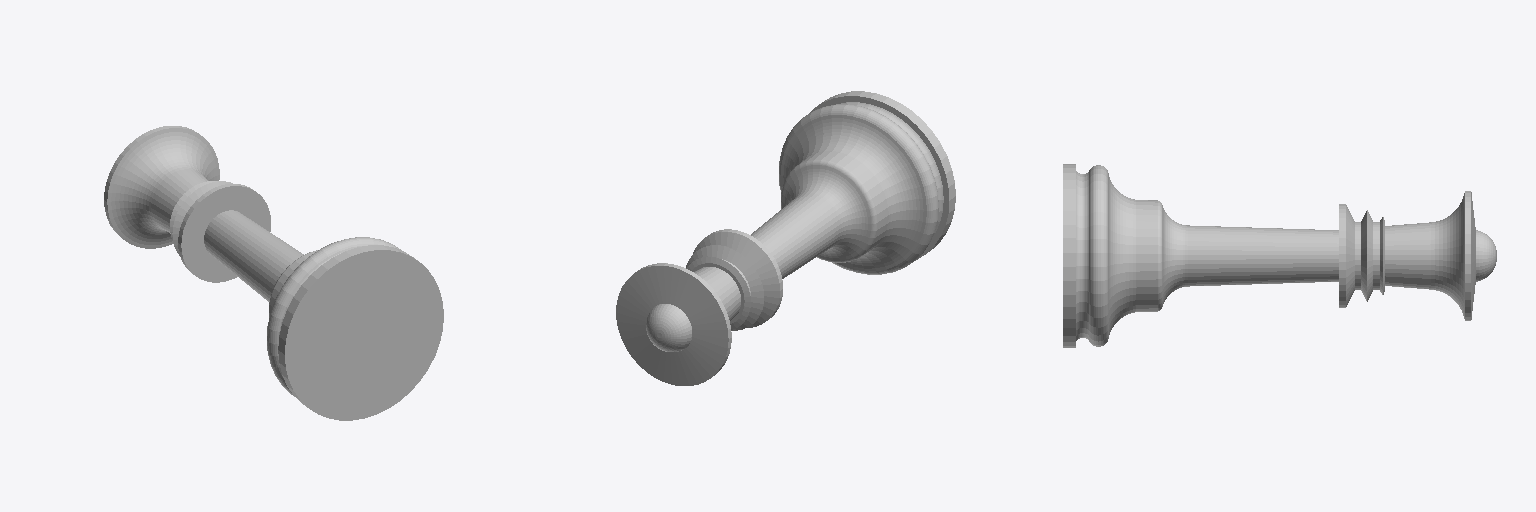
File: rainha.obj
The picture shows the model from 3 angles: view 1: azimuth 30°, elevation 25°; view 2: azimuth 150°, elevation 25°; view 3: azimuth 270°, elevation 25°; orthographic projection.
Parts seen in each view (by area): view 1: Mesh1_Group2_Group_44_1_Group1_Model; view 2: Mesh1_Group2_Group_44_1_Group1_Model; view 3: Mesh1_Group2_Group_44_1_Group1_Model.
Boxes of the visible parts, box(x1,y1,x2,y2) form: Mesh1_Group2_Group_44_1_Group1_Model: box(104, 126, 443, 420); Mesh1_Group2_Group_44_1_Group1_Model: box(616, 91, 955, 385); Mesh1_Group2_Group_44_1_Group1_Model: box(1063, 164, 1496, 347).
Bounding box in the file's own units: 0.28 × 0.28 × 0.6603.